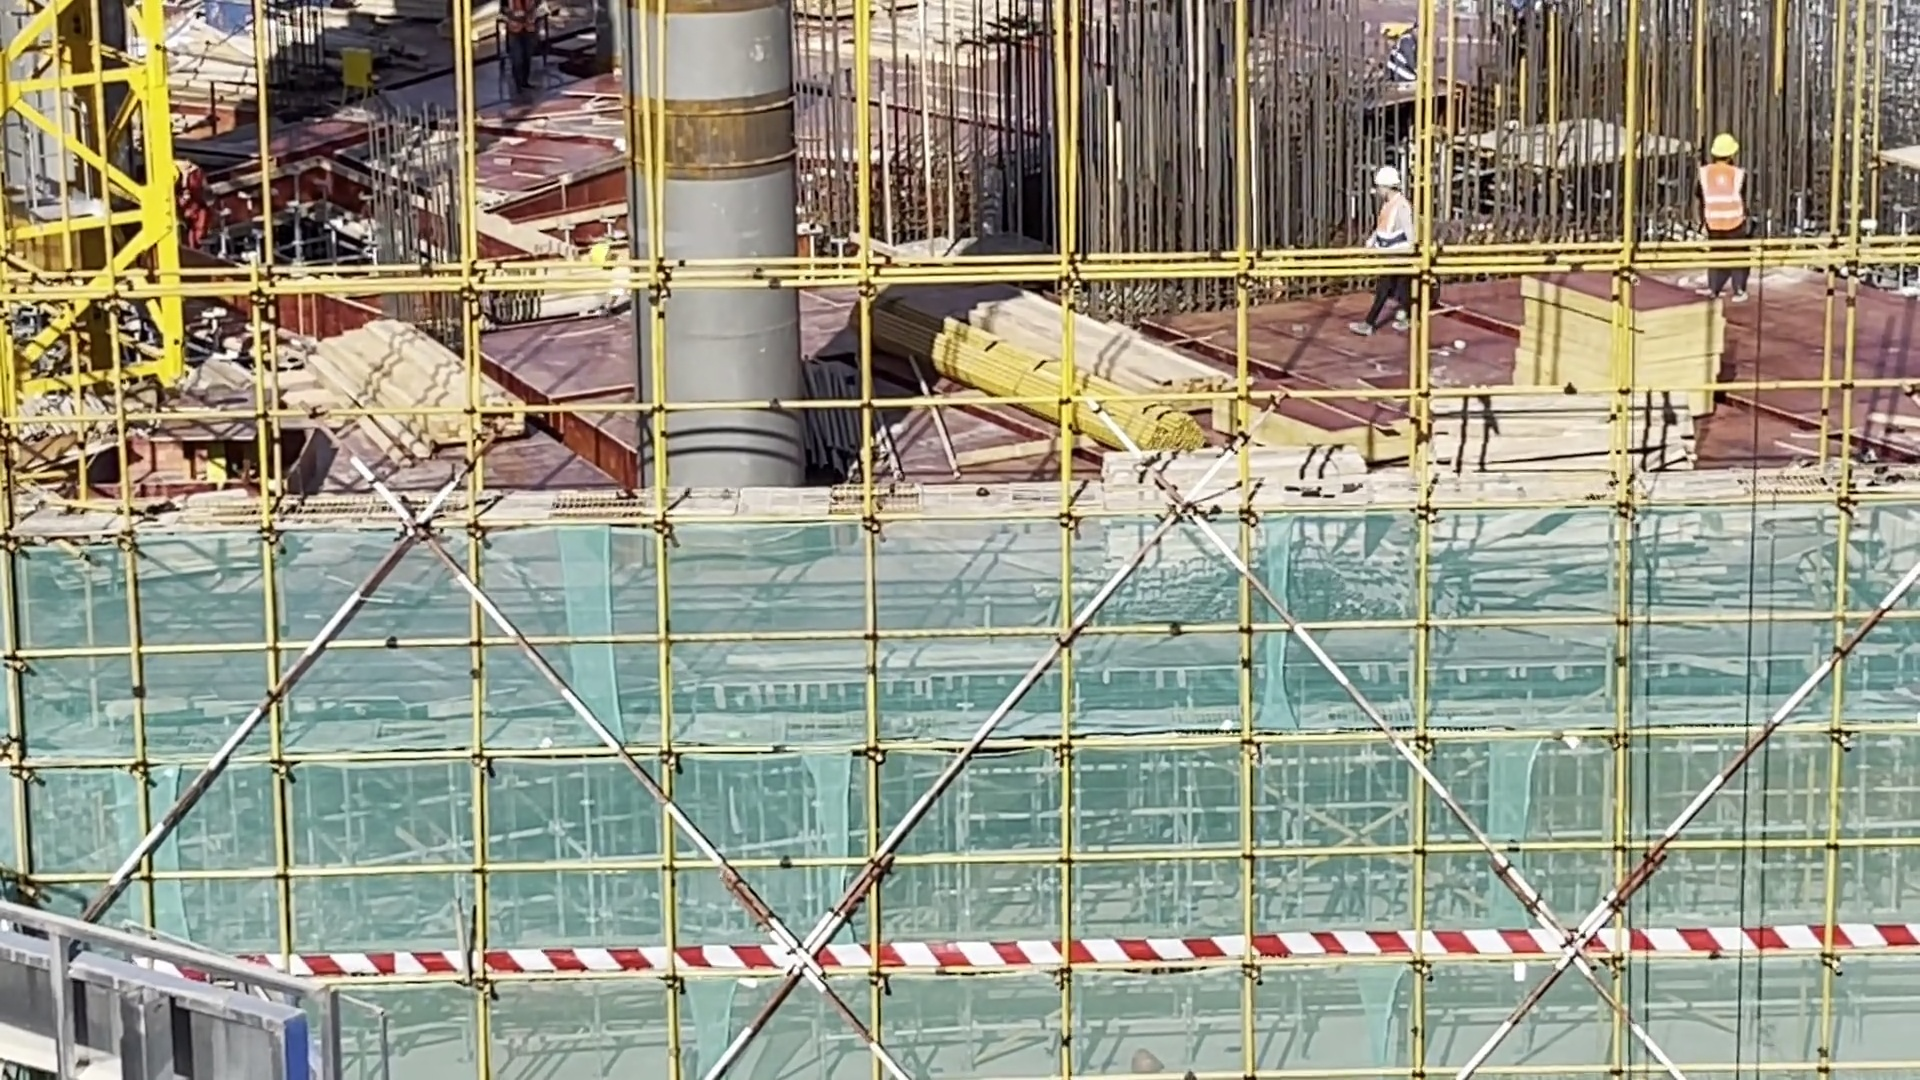board: (1519, 256, 1726, 426)
cutter: (151, 387, 306, 489)
ebox: (318, 54, 386, 99), (206, 452, 241, 496)
helmet: (1373, 162, 1404, 199), (590, 236, 614, 273), (1708, 136, 1736, 164), (1408, 19, 1433, 37), (1489, 9, 1508, 22)
person: (1711, 123, 1774, 291), (172, 155, 242, 270), (1359, 153, 1404, 318), (566, 245, 649, 318), (498, 1, 552, 101), (1351, 11, 1429, 75), (1481, 1, 1551, 58)
vest: (1704, 172, 1741, 249), (184, 161, 224, 231), (1371, 202, 1431, 242), (1524, 1, 1559, 56), (1379, 37, 1428, 71), (503, 1, 536, 42), (616, 256, 643, 301)
wood: (899, 251, 1203, 414), (343, 332, 526, 451)
